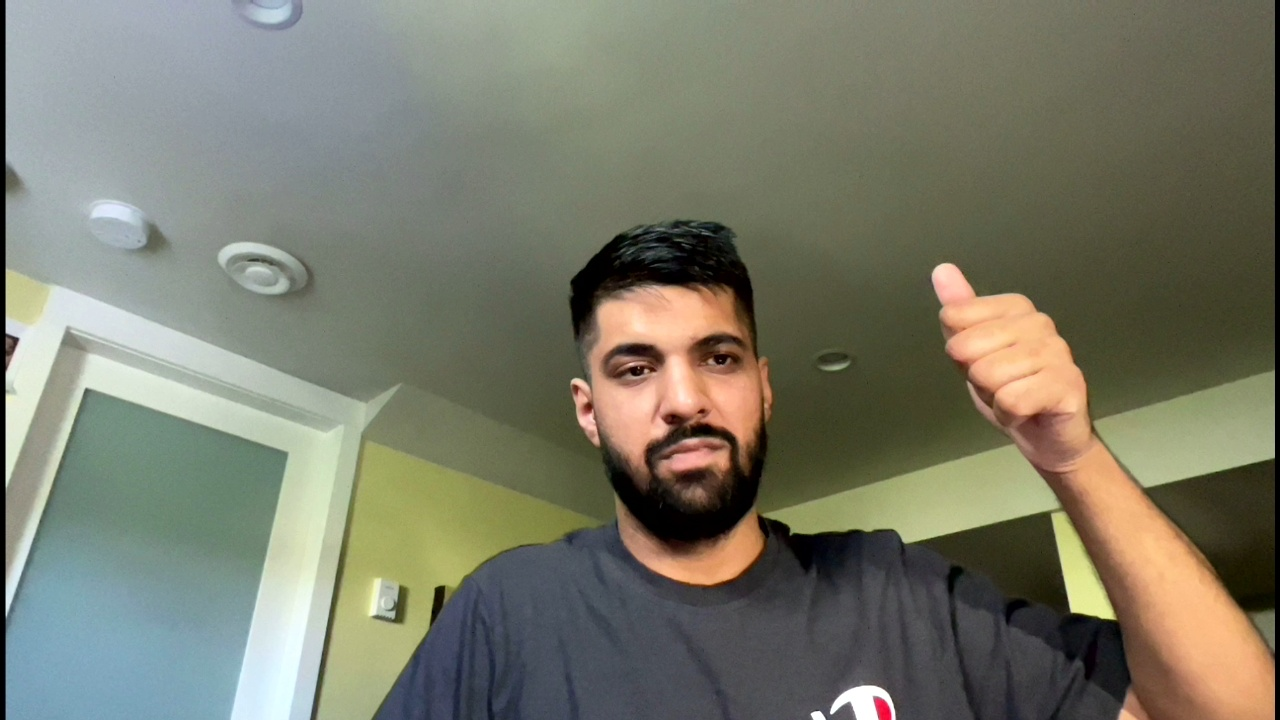Yes: (910, 261, 1123, 461)
